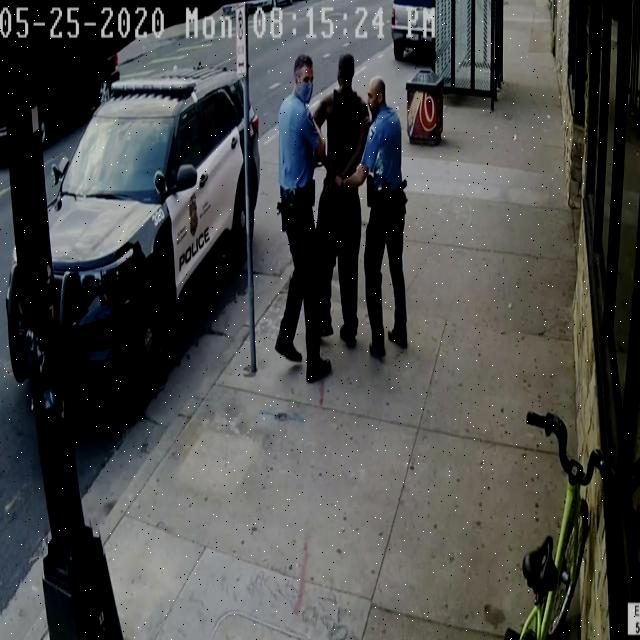police: (256, 42, 334, 378), (361, 64, 412, 365)
